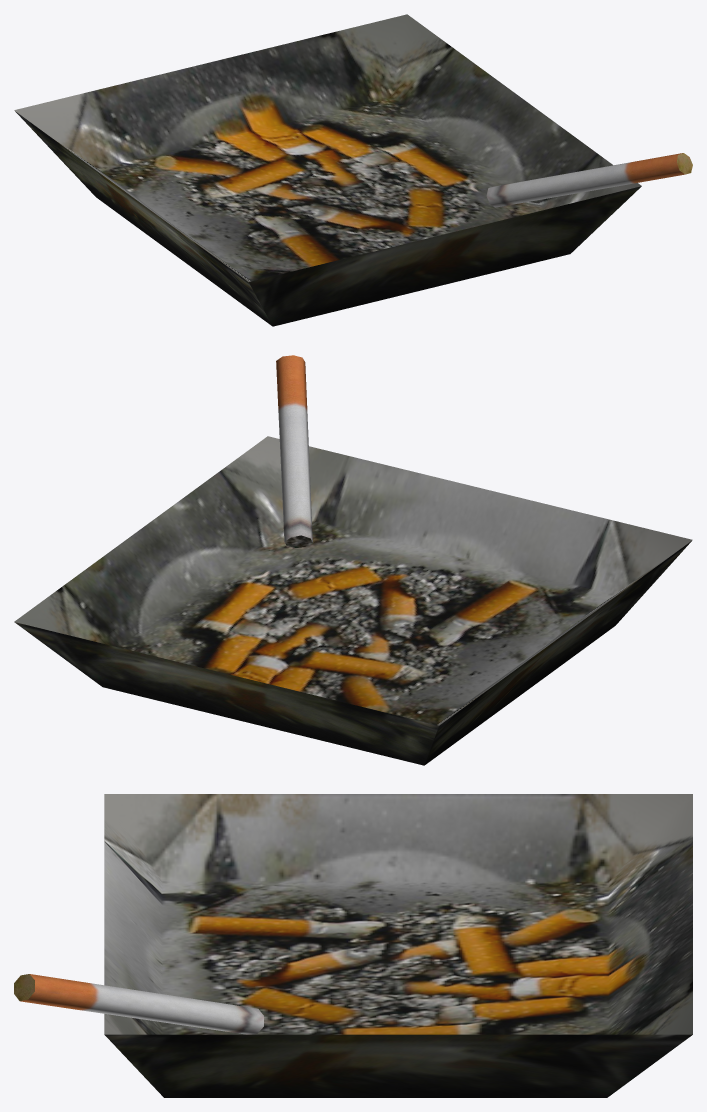
File: ashtray.obj
3 views of the same model, one above another, from view 1: azimuth 30°, elevation 25°; view 2: azimuth 150°, elevation 25°; view 3: azimuth 270°, elevation 25° (orthographic). The views are drawn at different scales.
Parts seen in each view (by area): view 1: skin; view 2: skin; view 3: skin.
Boxes of the visible parts, <box> form: skin: <box>14,14,692,326</box>; skin: <box>14,355,692,765</box>; skin: <box>14,794,692,1097</box>.
Bounding box in the file's own units: 9.73 × 2.81 × 11.03.
1 material, 1 textured.
